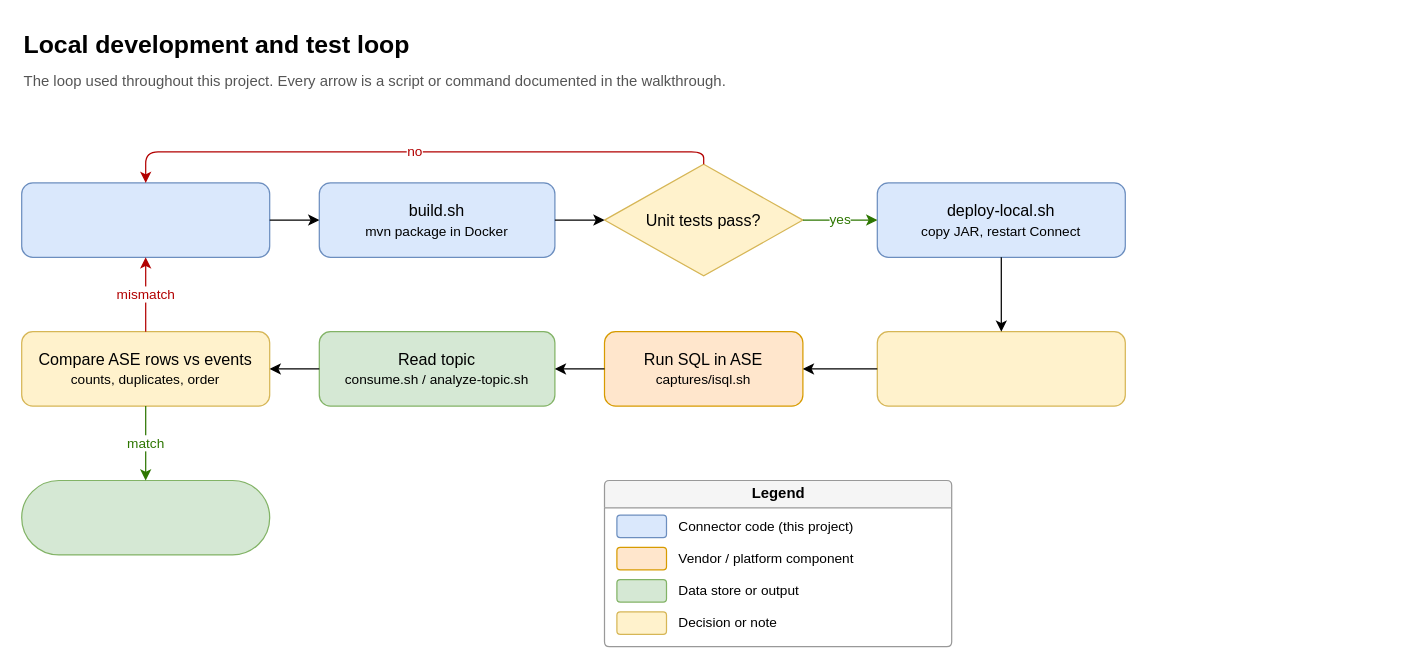
The diagram is 1407 pixels wide and 668 high, and some of its shapes have lost their labels. The centre of each missing label's shape, as x and y in pixels:
"Connector RUNNING? GET /status" belongs at (x=1000, y=368).
"Edit Java source fix + add a test (.bin fixture)" belongs at (x=145, y=219).
"Record evidence docs/evidence" belongs at (x=145, y=517).
